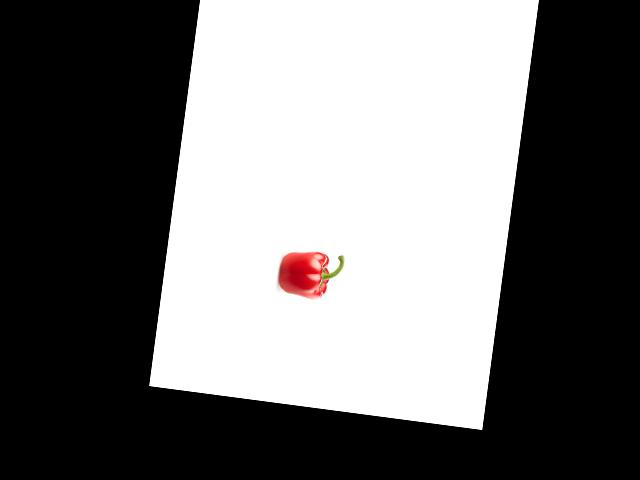bell_pepper: (276, 245, 346, 301)
